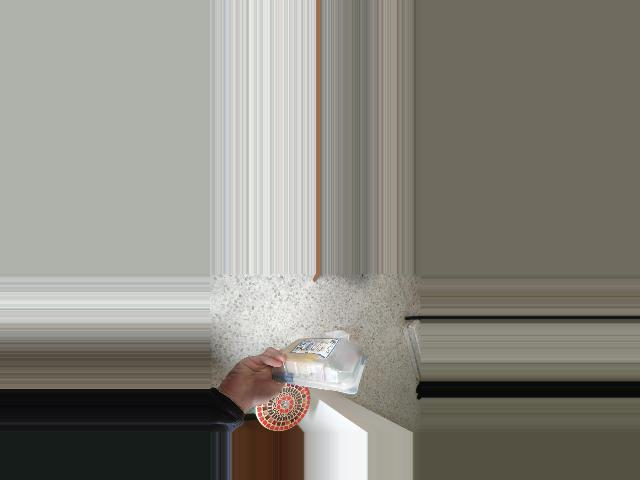cheese: (274, 337, 367, 389)
